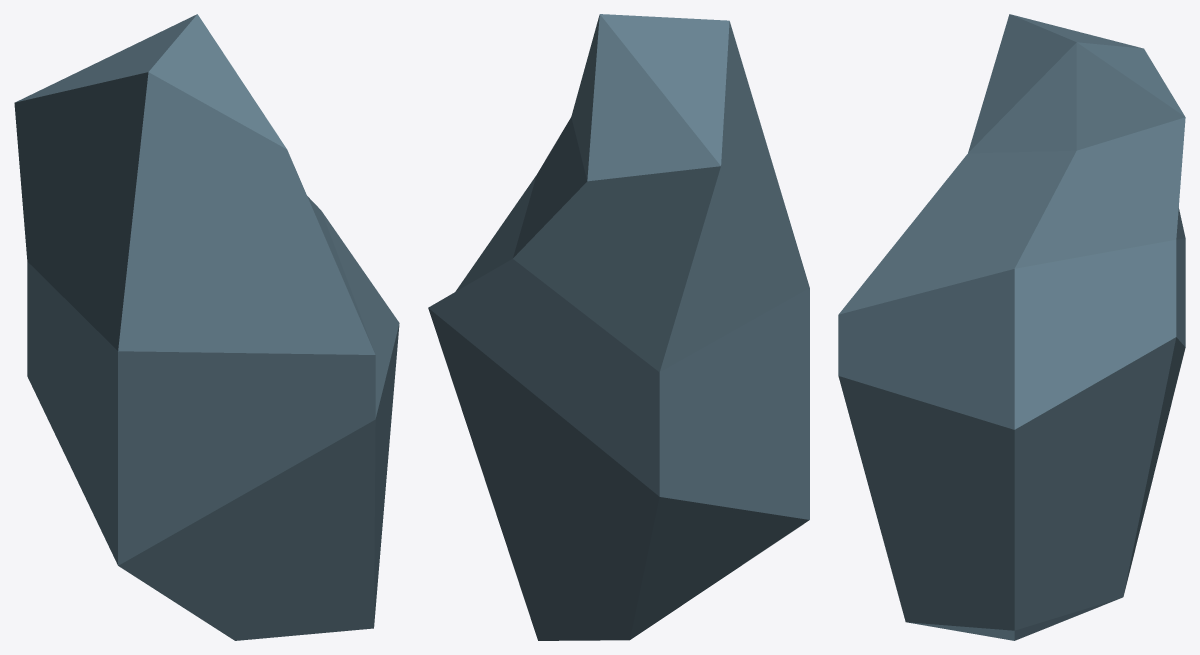
File: rock1.fbx
3 views of the same model, side by side, from view 1: azimuth 30°, elevation 25°; view 2: azimuth 150°, elevation 25°; view 3: azimuth 270°, elevation 25° (orthographic). The views are drawn at different scales.
Parts seen in each view (by area): view 1: pSphere1; view 2: pSphere1; view 3: pSphere1.
Boxes of the visible parts, bbox=[...] form: pSphere1: bbox=[14, 14, 399, 640]; pSphere1: bbox=[428, 14, 809, 640]; pSphere1: bbox=[838, 14, 1185, 640].
Bounding box in the file's own units: 1.78 × 3.25 × 1.78.
